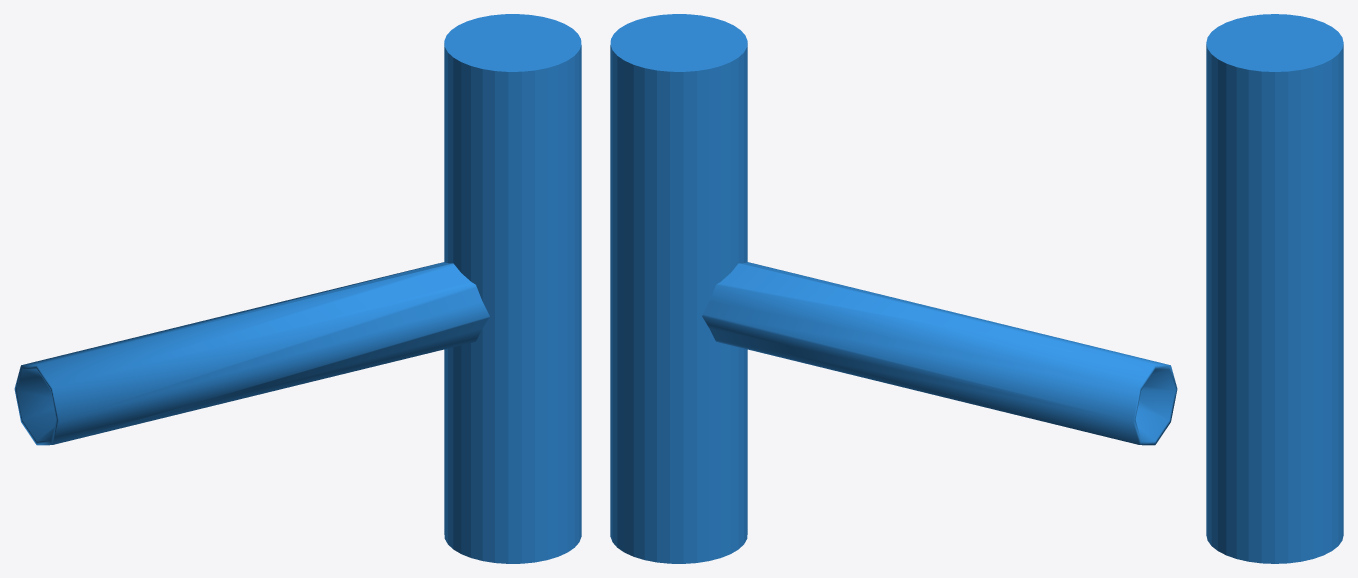
The model's file is uridine.fbx.
3 renders of one model, left to right at view 1: azimuth 30°, elevation 25°; view 2: azimuth 150°, elevation 25°; view 3: azimuth 270°, elevation 25°, orthographic.
Parts seen in each view (by area): view 1: uridine; view 2: uridine; view 3: uridine.
Boxes of the visible parts, box(x1,y1,x2,y2) form: uridine: box(14, 14, 581, 563); uridine: box(610, 14, 1177, 563); uridine: box(1206, 14, 1343, 563).
Size of the model in its own units: 58.09 by 50.98 by 12.91.
